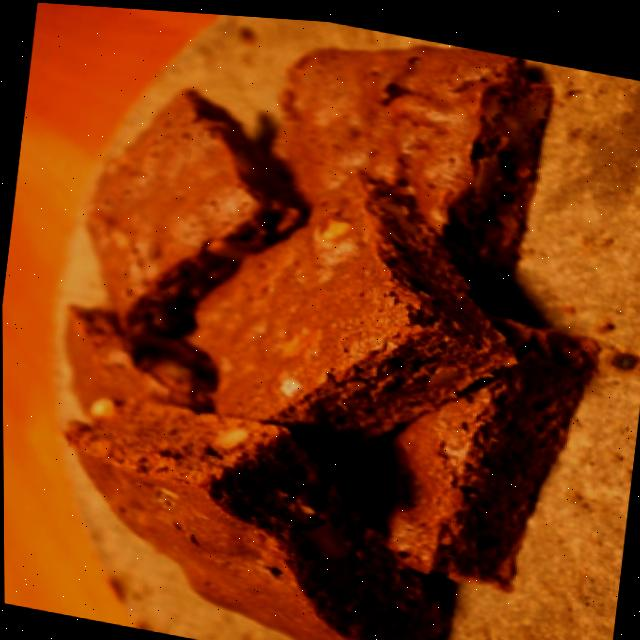蛋糕甜品: (14, 1, 636, 640)
